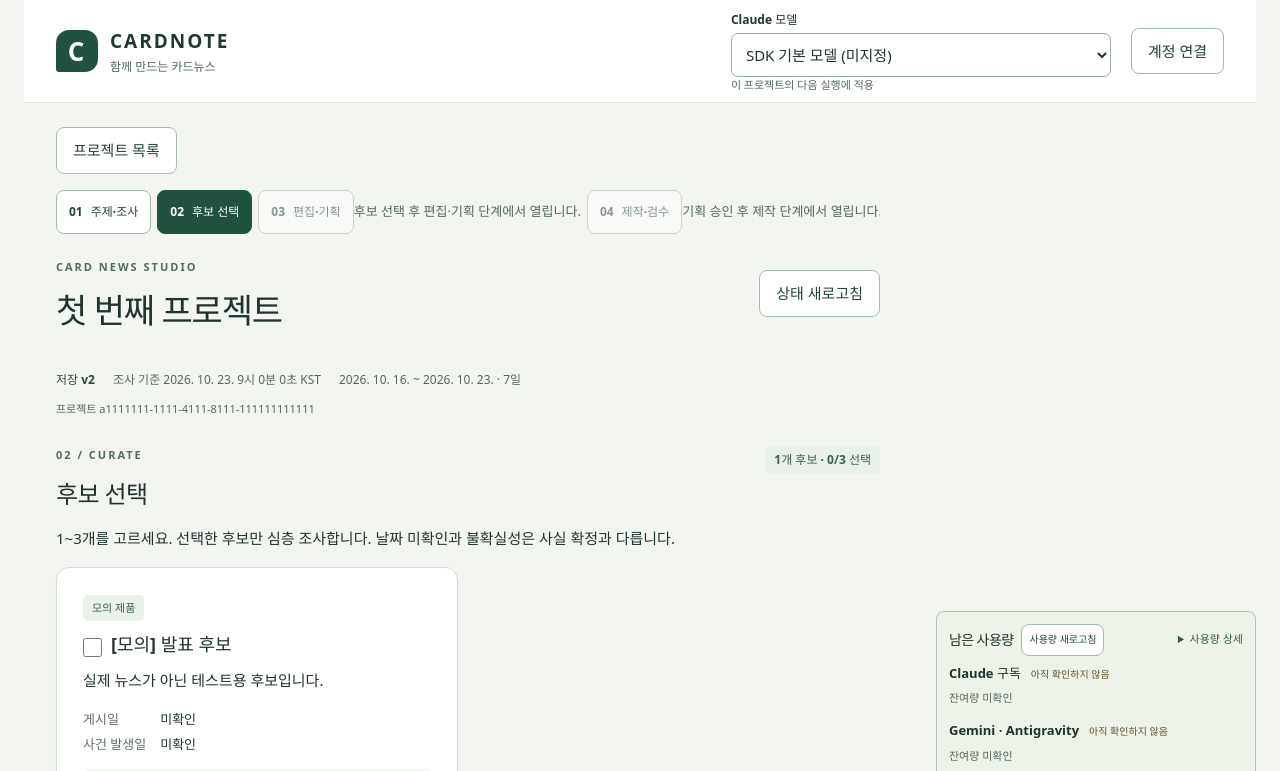
Scenario: 전체 프로젝트를 검색하고 선택하며 뒤로가기·새 프로젝트를 지원한다
The image size is (1280, 771).
Check: the heading "첫 번째 프로젝트" is shown, box x1=56 y1=288 x2=282 y2=334
Click the button "프로젝트 목록" at {"x": 116, "y": 151}, box x1=56 y1=127 x2=177 y2=174
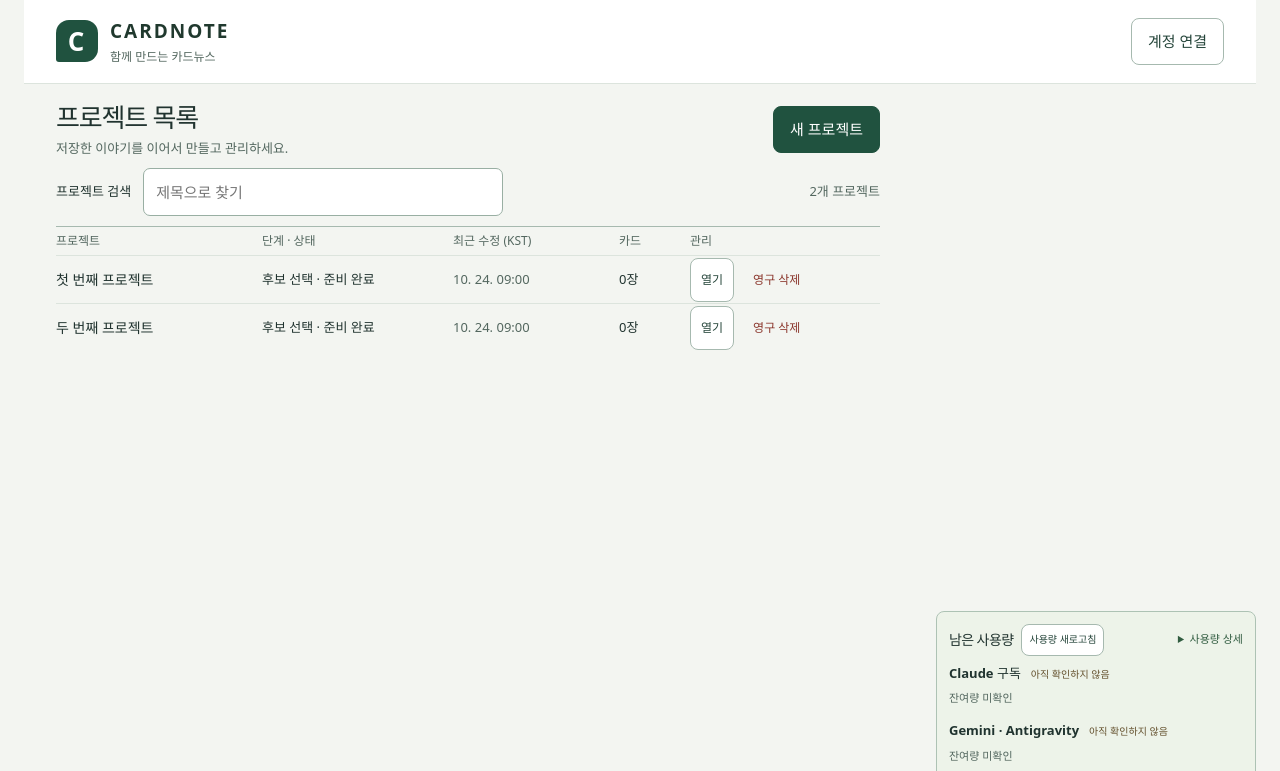
Click the button "열기" in the row of "두 번째 프로젝트" at {"x": 712, "y": 328}, box x1=690 y1=306 x2=734 y2=350
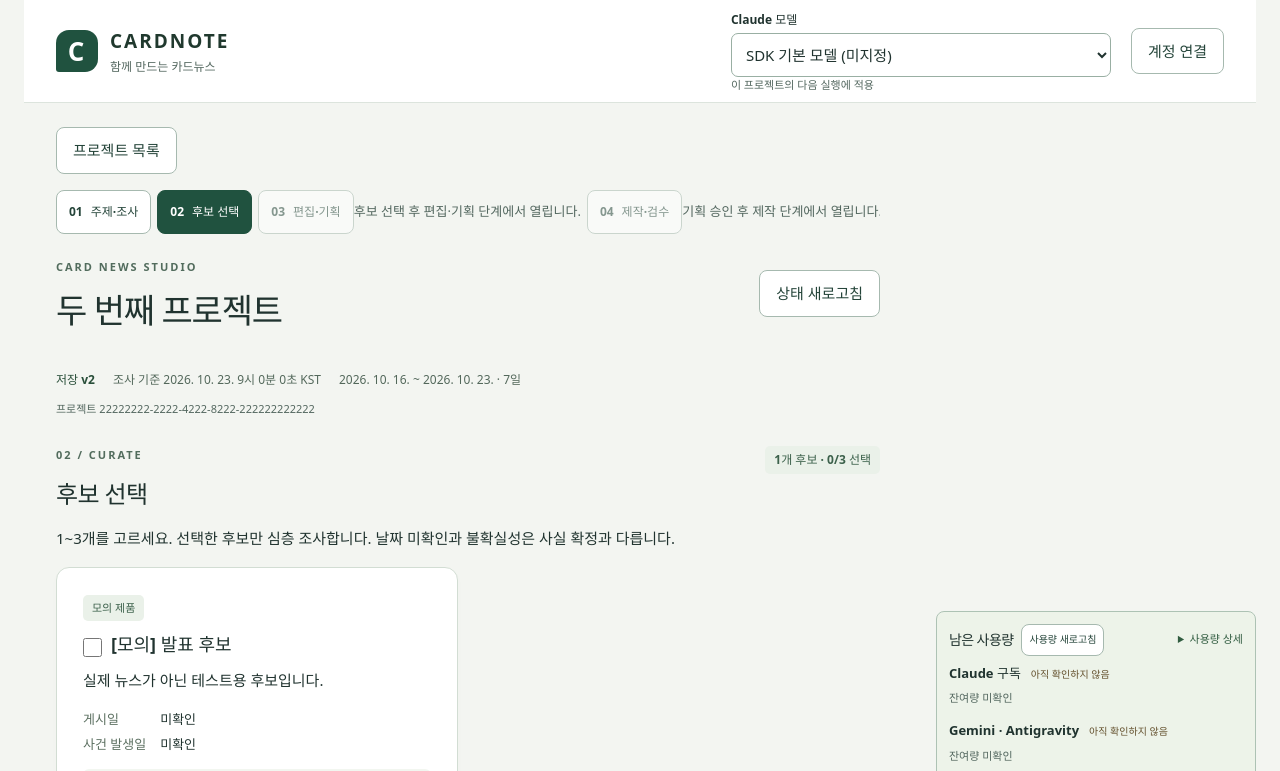
Check: the heading "두 번째 프로젝트" is shown, box x1=56 y1=288 x2=282 y2=334
Click the button "프로젝트 목록" at {"x": 116, "y": 151}, box x1=56 y1=127 x2=177 y2=174
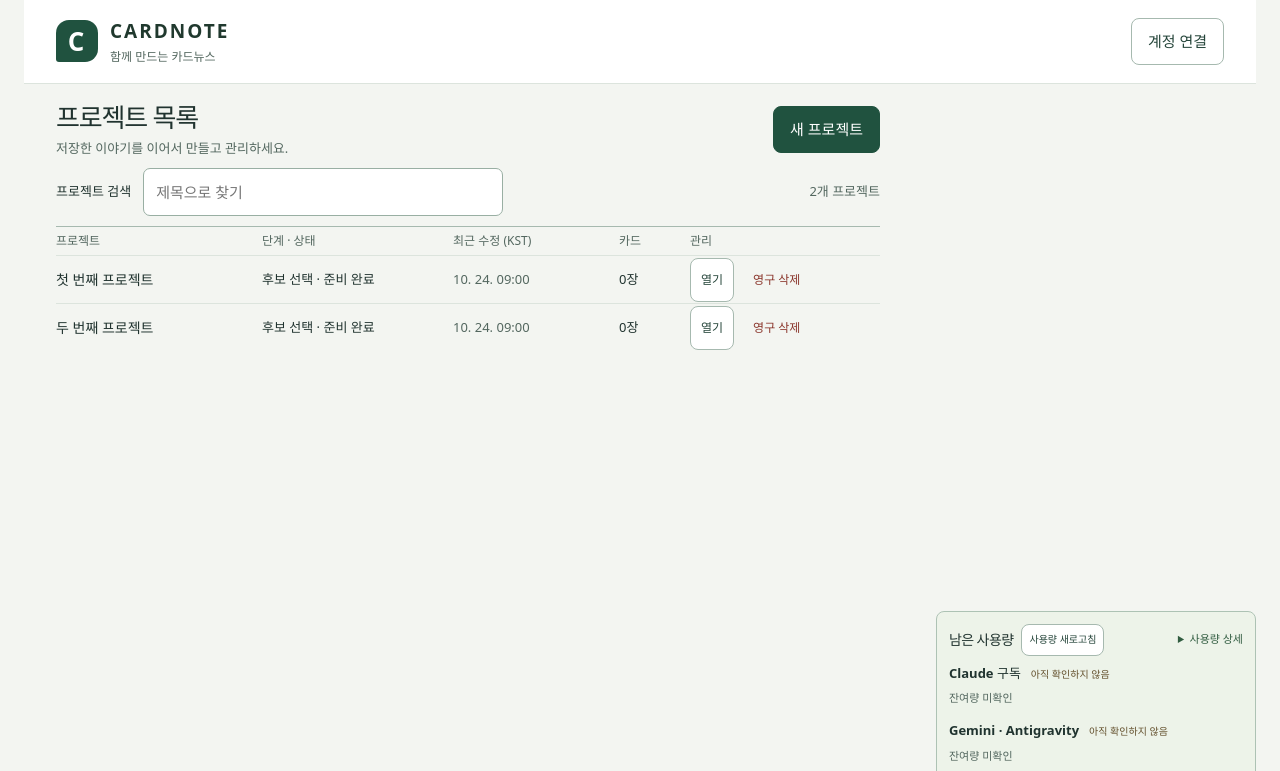
Type "두 번째" into the search field labelled "프로젝트 검색" at {"x": 323, "y": 192}, box x1=143 y1=168 x2=503 y2=216
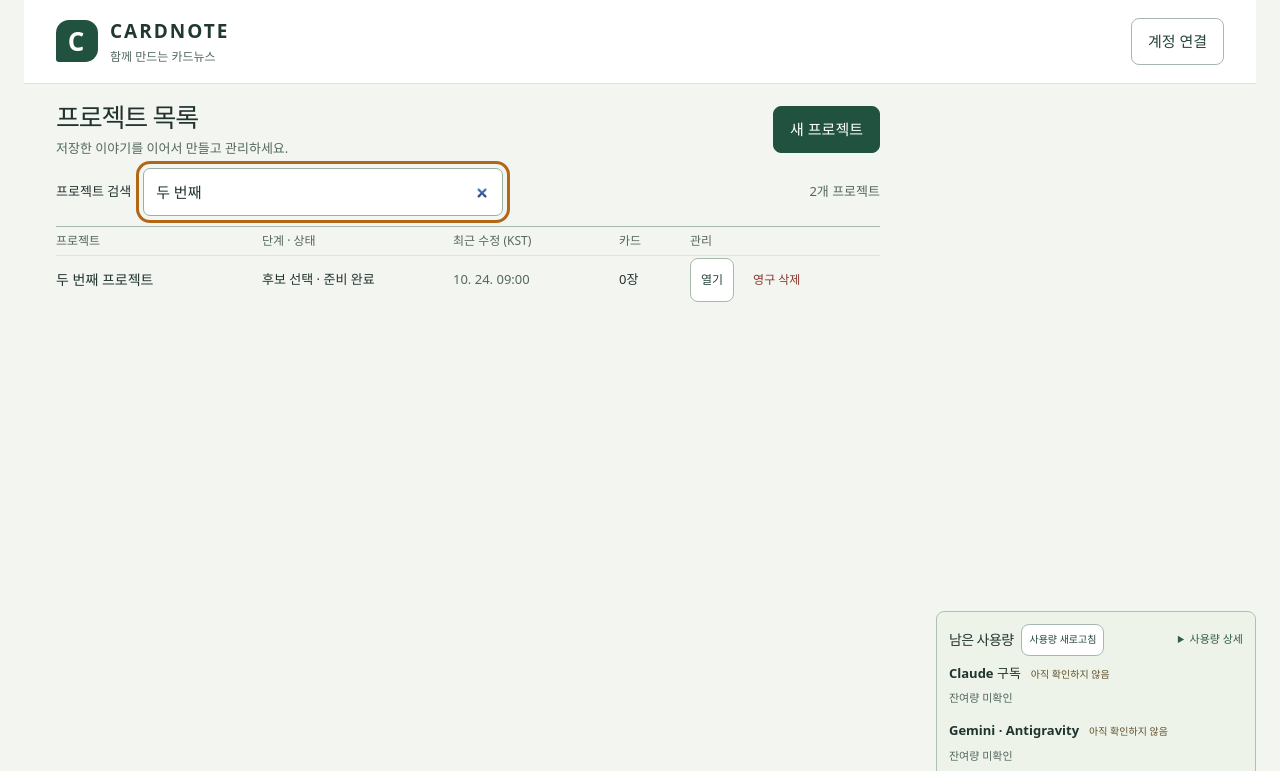
Check: the cell "첫 번째 프로젝트" is gone
Click the button "새 프로젝트" at {"x": 827, "y": 130}, box x1=773 y1=106 x2=880 y2=153
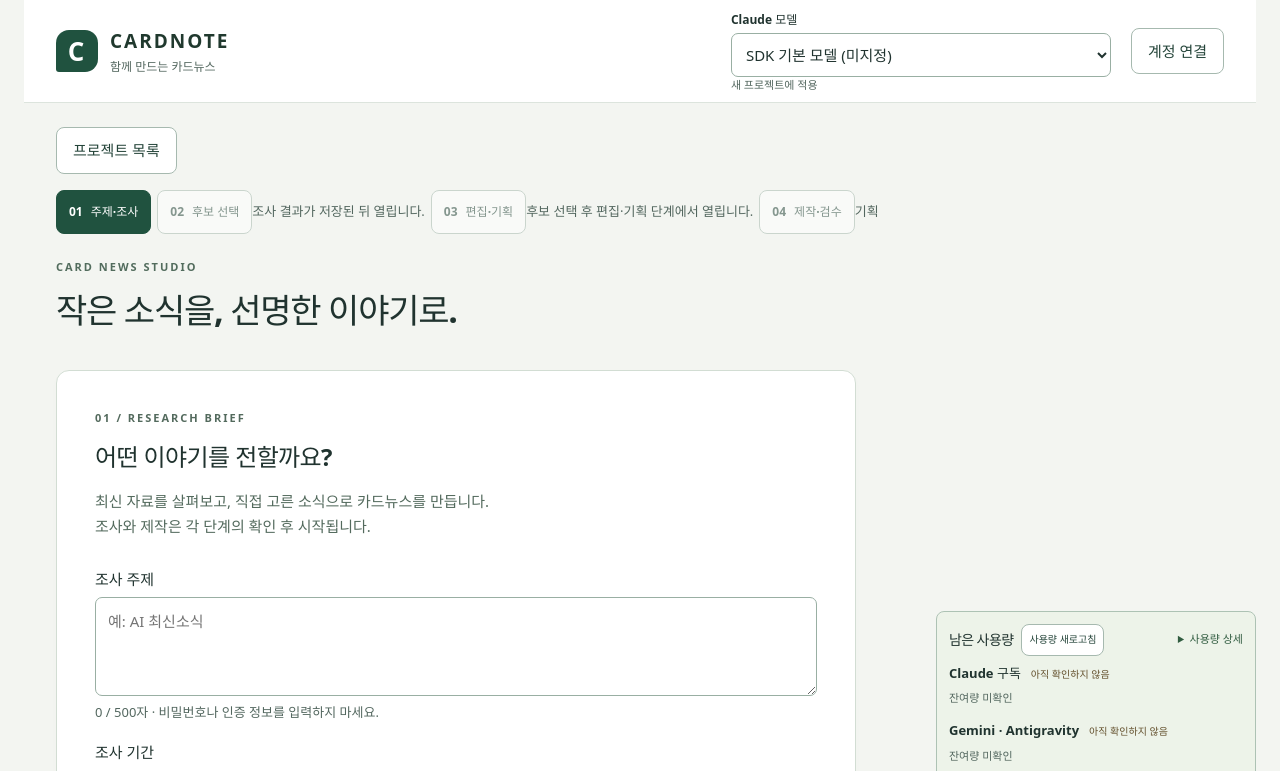
Check: the heading "작은 소식을, 선명한 이야기로." is shown, box x1=56 y1=288 x2=457 y2=334
